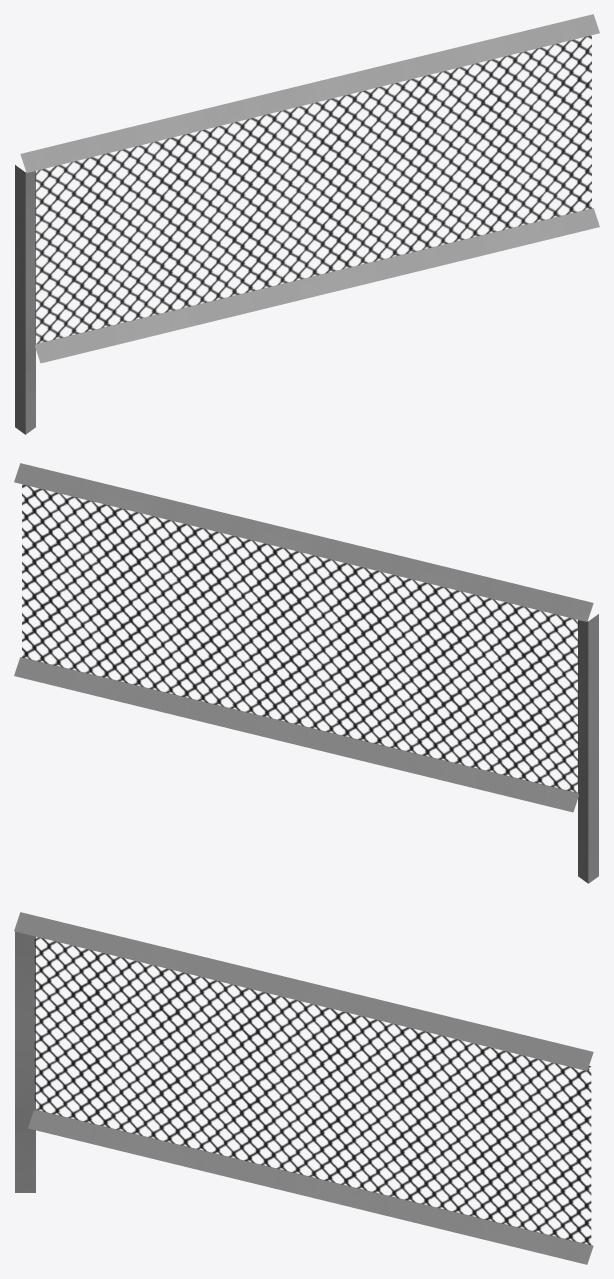
File: fence-chainlink-2rail-1s-cbj_LOD01.gltf
The picture shows the model from 3 angles, top to bottom: view 1: azimuth 30°, elevation 25°; view 2: azimuth 150°, elevation 25°; view 3: azimuth 330°, elevation 25°; orthographic projection.
Visible parts, largest first — view 1: chainlink01; view 2: chainlink01; view 3: chainlink01.
Part boxes in pixels (x1,y1,x2,y2): chainlink01: (15,14,599,434); chainlink01: (14,463,598,883); chainlink01: (14,912,593,1264).
Size of what is drawn, in the model's own units: 2.88 by 1.33 by 0.11.
